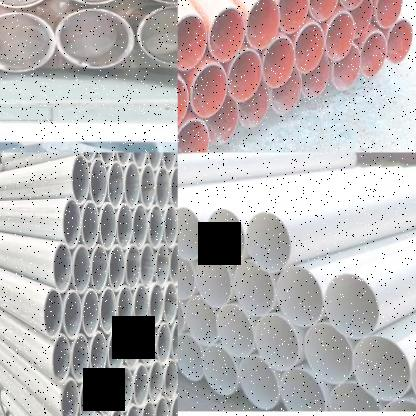pipe: (54, 7, 136, 70), (353, 335, 410, 401), (325, 273, 379, 339), (0, 10, 56, 73), (304, 322, 353, 384), (277, 267, 325, 327), (245, 211, 291, 273), (136, 4, 178, 67), (255, 314, 299, 371), (234, 261, 275, 317), (206, 208, 245, 266), (239, 355, 280, 409), (217, 304, 255, 357), (280, 368, 326, 411), (196, 254, 232, 308), (209, 8, 245, 61), (192, 65, 228, 118), (328, 380, 381, 414), (203, 344, 238, 395), (229, 49, 262, 103), (185, 296, 219, 345), (263, 37, 295, 89), (207, 94, 239, 145), (178, 14, 207, 70), (246, 0, 279, 49), (294, 23, 325, 74), (326, 11, 356, 61), (239, 82, 270, 128), (271, 70, 302, 115), (332, 45, 362, 91), (178, 207, 203, 260), (301, 55, 330, 99), (360, 31, 387, 77), (178, 333, 203, 382), (387, 19, 413, 65), (42, 286, 62, 340), (52, 241, 72, 294), (178, 119, 209, 153), (71, 243, 91, 295), (70, 333, 90, 385), (81, 286, 100, 340), (278, 0, 309, 33), (62, 288, 82, 339), (62, 197, 81, 250), (115, 362, 134, 413), (89, 158, 108, 208), (51, 335, 70, 385), (97, 366, 116, 416), (71, 153, 89, 205), (90, 243, 108, 295), (89, 331, 107, 383), (116, 283, 134, 334), (82, 199, 99, 251), (132, 201, 149, 252), (99, 285, 116, 336), (178, 250, 195, 300), (100, 199, 116, 252), (108, 245, 126, 292), (107, 161, 124, 210), (124, 161, 141, 210), (124, 324, 141, 373), (116, 201, 132, 252), (107, 328, 124, 376), (58, 376, 78, 416), (140, 163, 156, 212), (148, 202, 164, 251), (133, 282, 149, 331), (156, 320, 172, 369), (79, 373, 97, 416), (154, 165, 170, 213), (140, 244, 156, 292), (148, 280, 164, 328), (162, 356, 178, 404), (375, 0, 402, 28), (125, 243, 141, 290), (162, 279, 178, 326), (351, 0, 371, 37), (162, 203, 178, 249), (140, 323, 156, 369), (148, 359, 164, 405), (155, 243, 170, 290), (134, 360, 148, 410), (308, 0, 339, 21), (178, 76, 188, 133), (168, 166, 178, 211), (168, 242, 178, 287), (170, 320, 178, 366), (160, 152, 176, 174), (146, 152, 162, 172), (130, 152, 147, 170), (339, 0, 369, 10), (178, 289, 184, 336), (154, 396, 168, 416), (114, 152, 131, 168), (140, 401, 156, 416), (124, 401, 140, 416), (98, 152, 115, 166), (79, 152, 98, 164), (168, 395, 178, 416), (106, 405, 124, 416)
